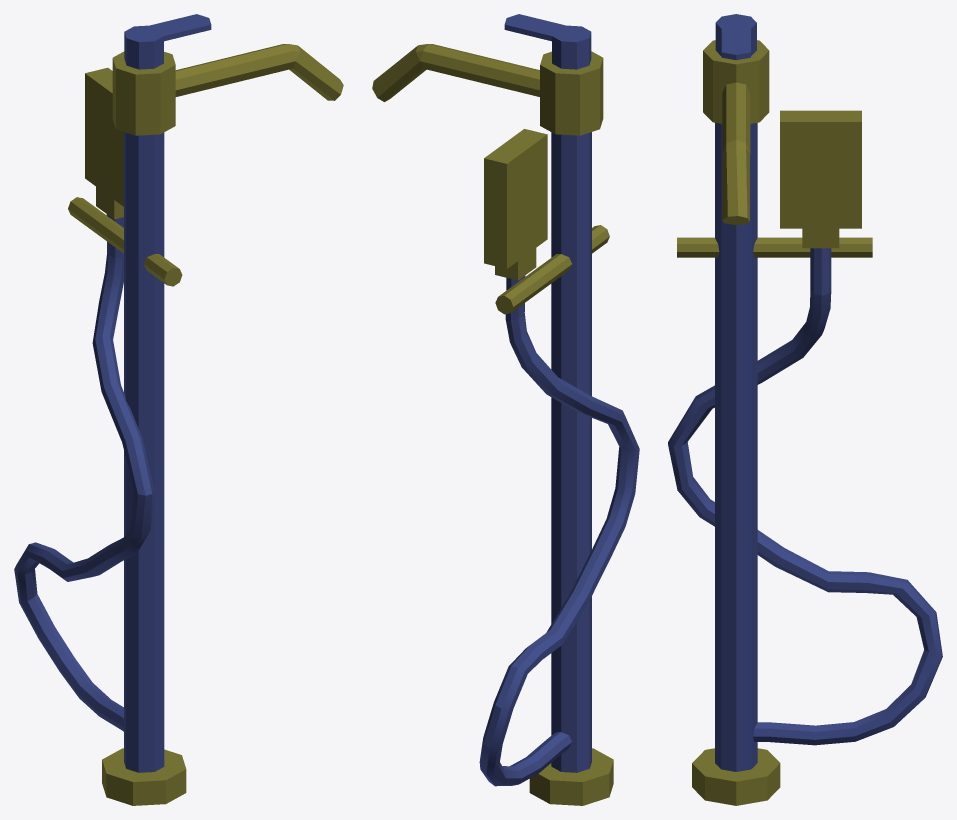
Rendered from Bathroom2_faucet.fbx.
The picture shows the model from 3 angles, left to right: view 1: azimuth 30°, elevation 25°; view 2: azimuth 150°, elevation 25°; view 3: azimuth 270°, elevation 25°; orthographic projection.
Parts seen in each view (by area): view 1: Bathroom2_faucet; view 2: Bathroom2_faucet; view 3: Bathroom2_faucet.
Boxes of the visible parts, <box> form: Bathroom2_faucet: <box>14,14,343,805</box>; Bathroom2_faucet: <box>372,14,639,805</box>; Bathroom2_faucet: <box>668,14,942,805</box>.
Bounding box in the file's own units: 52.44 × 161 × 52.38.
